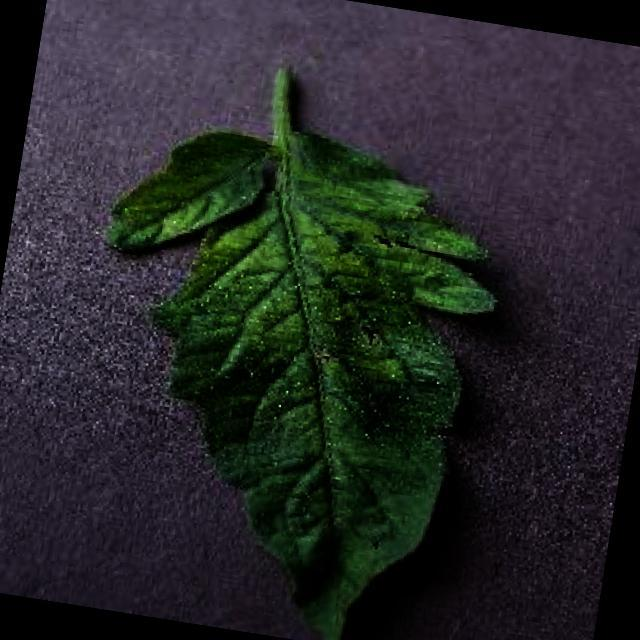Tomato mosaic virus leaf: (47, 102, 521, 640)
